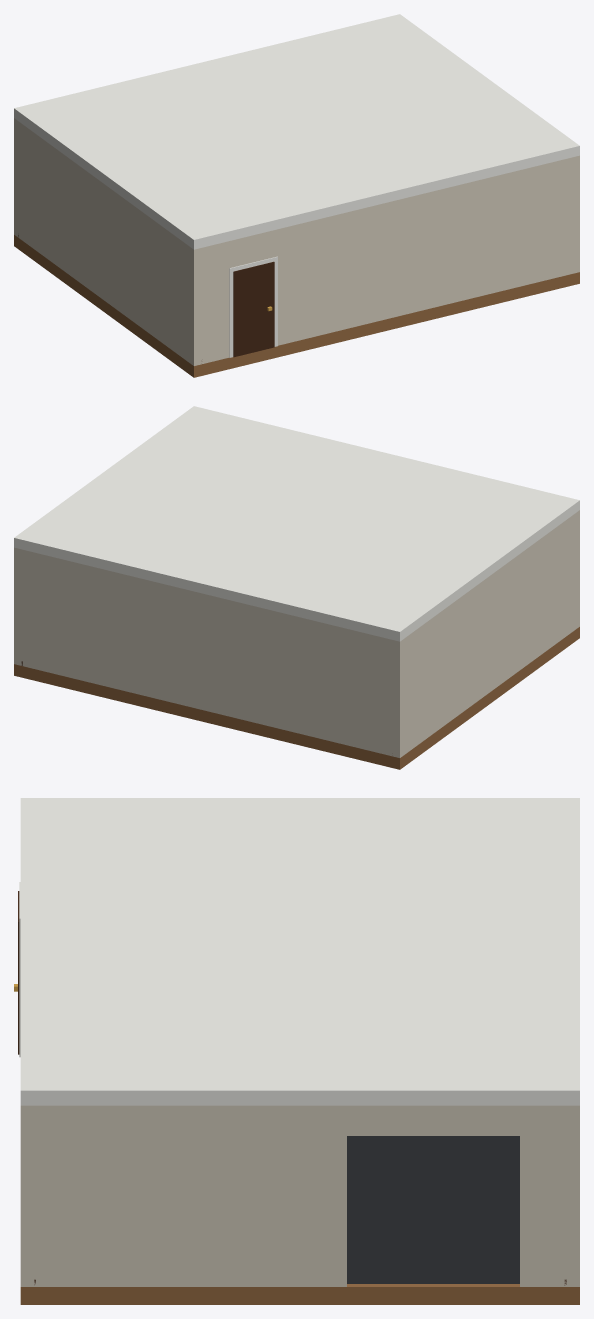
Rendered from home.glb.
3 views of the same model, one above another, from view 1: azimuth 30°, elevation 25°; view 2: azimuth 150°, elevation 25°; view 3: azimuth 270°, elevation 25° (orthographic). The views are drawn at different scales.
Visible parts, largest first — view 1: home; view 2: home; view 3: home.
Part boxes in pixels (x1,y1,x2,y2): home: (14,14,579,377); home: (14,406,579,769); home: (14,798,579,1304).
Size of what is drawn, in the model's own units: 10.4 by 3.55 by 8.5.
